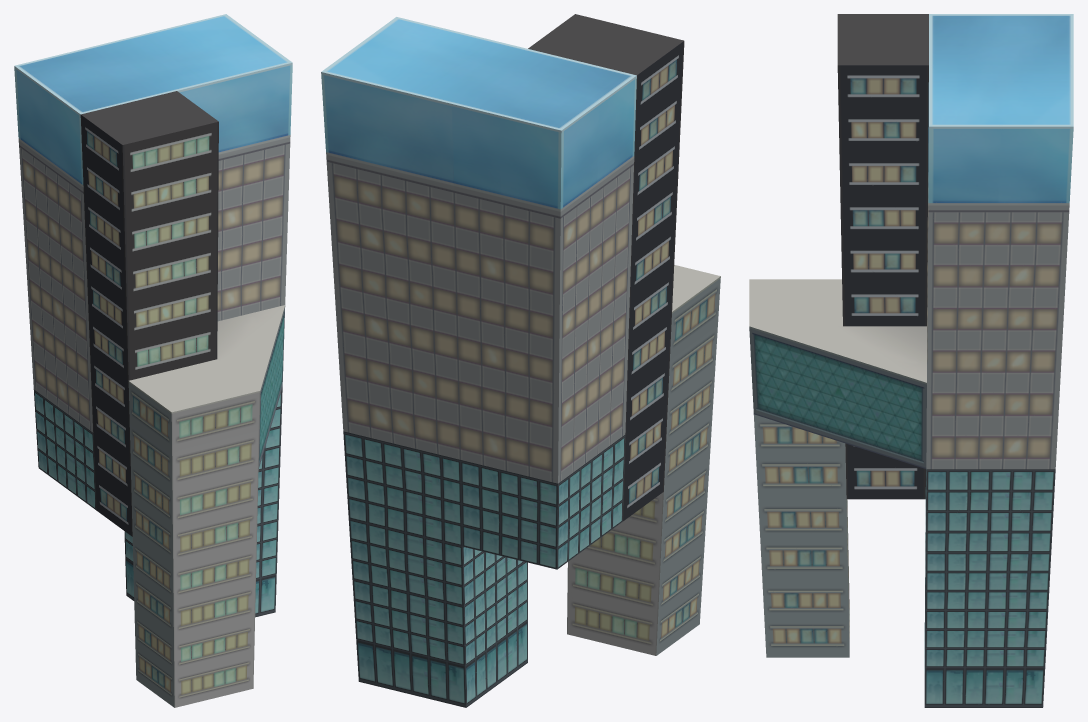
Rendered from ceshi.FBX.
The picture shows the model from 3 angles, left to right: view 1: azimuth 30°, elevation 25°; view 2: azimuth 150°, elevation 25°; view 3: azimuth 270°, elevation 25°; orthographic projection. The views are drawn at different scales.
Parts seen in each view (by area): view 1: ceshi; view 2: ceshi; view 3: ceshi.
Part boxes in pixels (x1,y1,x2,y2): ceshi: [14, 14, 292, 707]; ceshi: [321, 14, 720, 707]; ceshi: [749, 14, 1073, 707].
Size of the model in its own units: 1032 by 2528 by 1257.
